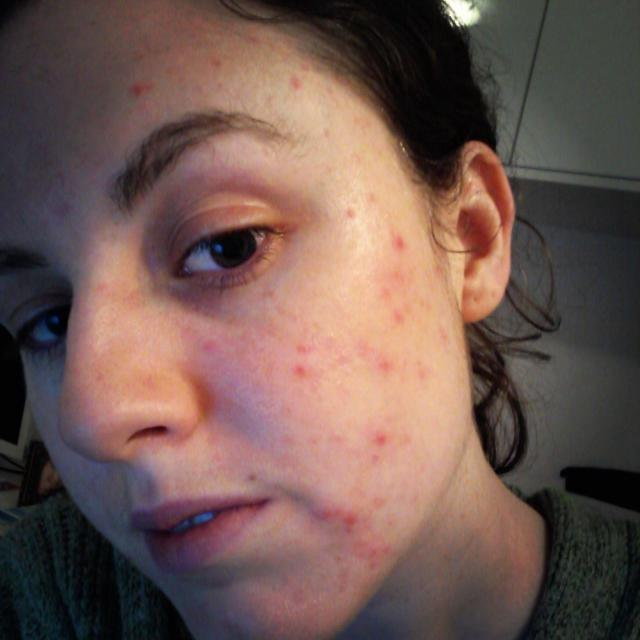acne: (193, 315, 460, 493)
